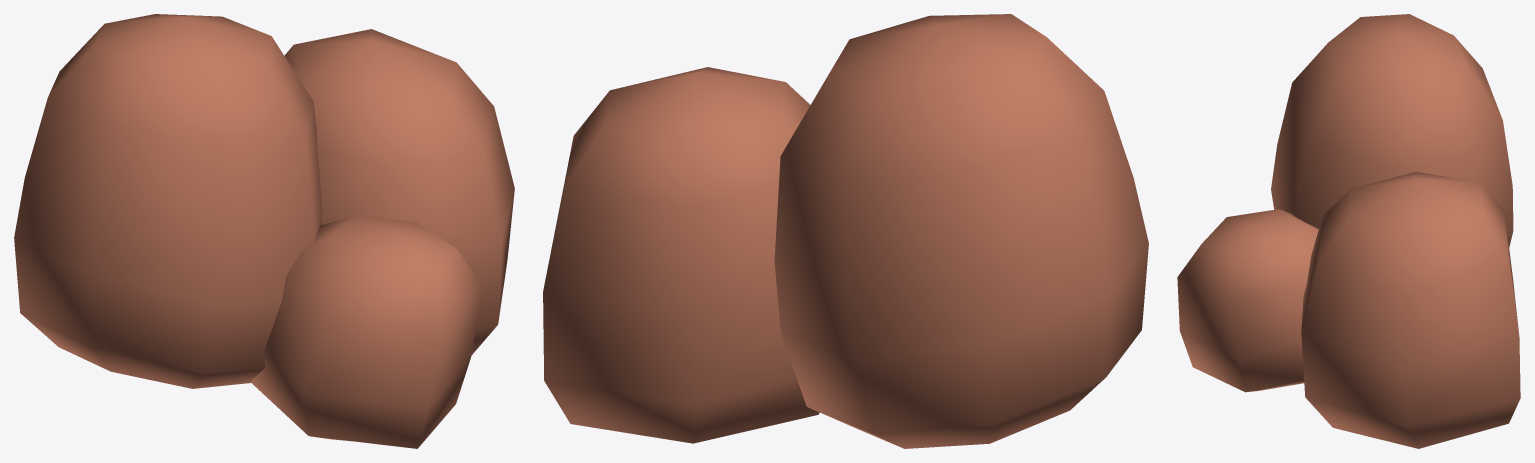
The model's file is Shrub_Top_B_03_LOD2.gltf.
3 views of the same model, side by side, from view 1: azimuth 30°, elevation 25°; view 2: azimuth 150°, elevation 25°; view 3: azimuth 270°, elevation 25° (orthographic). The views are drawn at different scales.
Visible parts, largest first — view 1: Shrub_Top_B_03_LOD2_Cylinder.684; view 2: Shrub_Top_B_03_LOD2_Cylinder.684; view 3: Shrub_Top_B_03_LOD2_Cylinder.684.
Boxes of the visible parts, x1=… form: Shrub_Top_B_03_LOD2_Cylinder.684: x1=14, y1=14, x2=514, y2=448; Shrub_Top_B_03_LOD2_Cylinder.684: x1=543, y1=14, x2=1148, y2=448; Shrub_Top_B_03_LOD2_Cylinder.684: x1=1177, y1=14, x2=1520, y2=448.
Size of the model in its own units: 7.47 by 5.52 by 5.64.
Materials: 1 (1 with a texture image).
